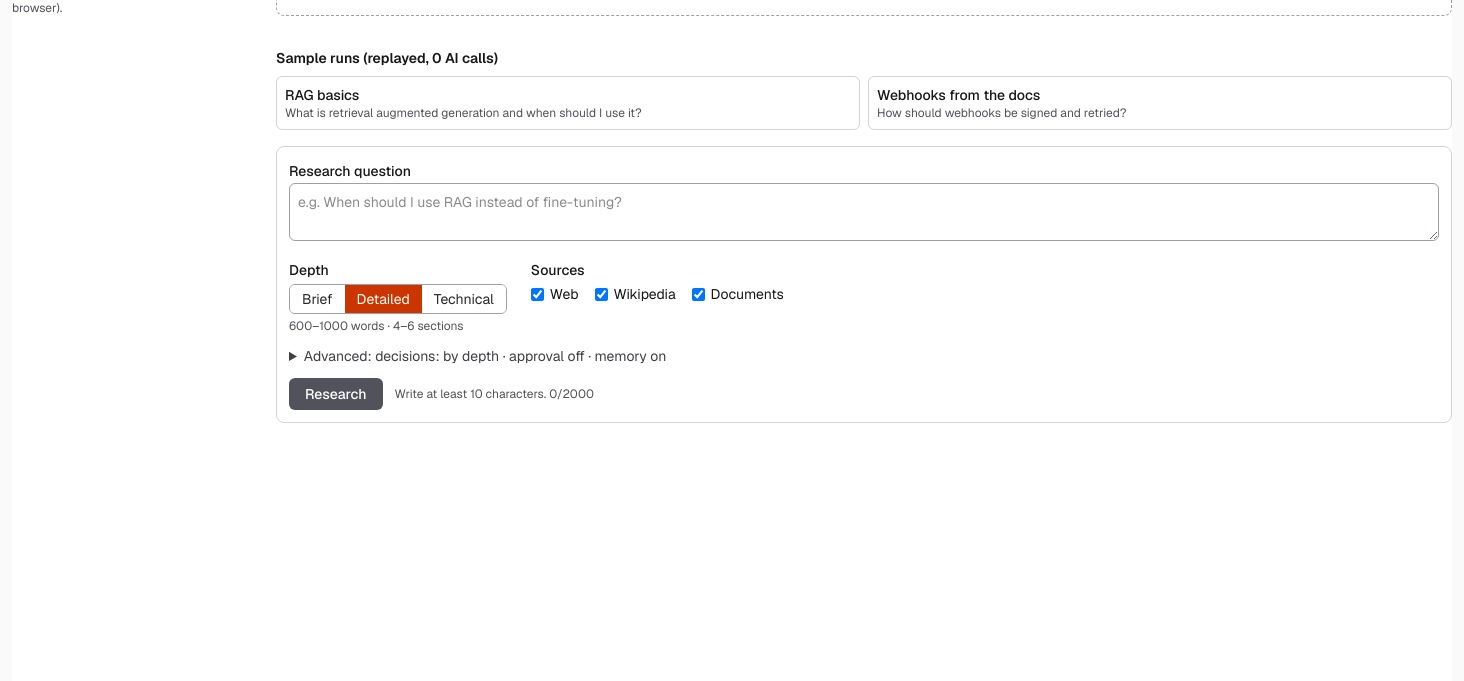
Test: ResearchApp › refetches on completion and shows the report, chips, references and run details
In the text box labelled "Research question": (864, 212) x1=289 y1=183 x2=1439 y2=241, type "What is retrieval augmented generation and when should I use it?"
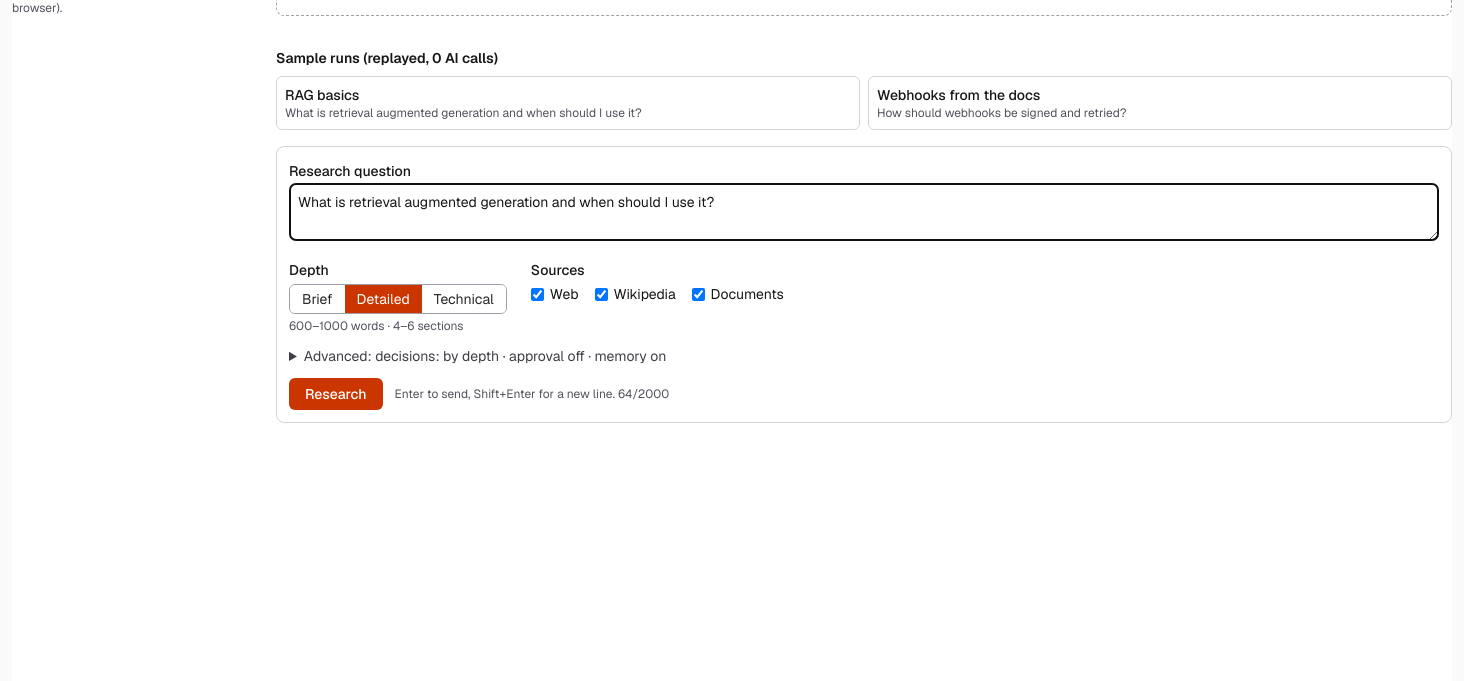
Click the button "Research": (336, 394) x1=289 y1=378 x2=383 y2=410
Wait 400 ms
(page scrolled)
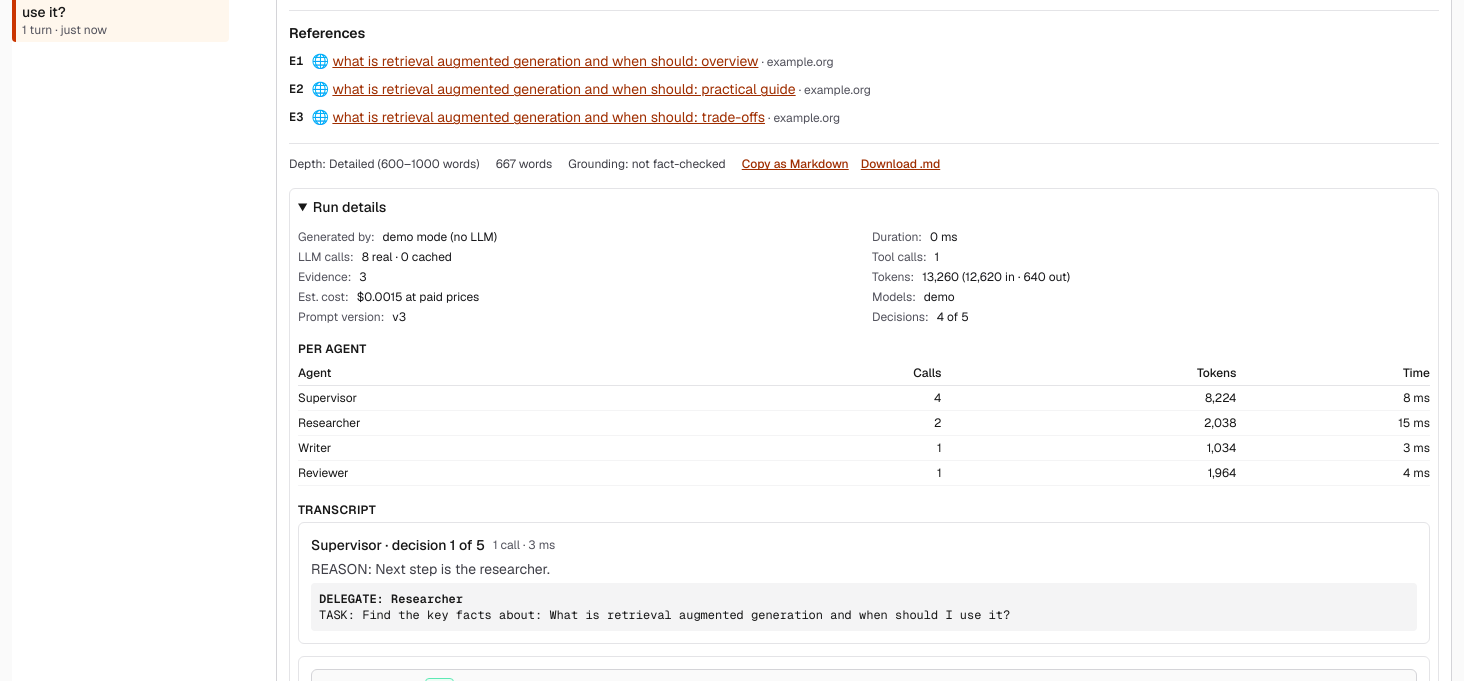
Expected: the text "667 words" is shown, x1=496 y1=156 x2=552 y2=172
Expected: the text "Grounding: not fact-checked" is shown, x1=568 y1=156 x2=726 y2=172
Expected: the element named "Run metadata" is shown, x1=298 y1=229 x2=1070 y2=325
